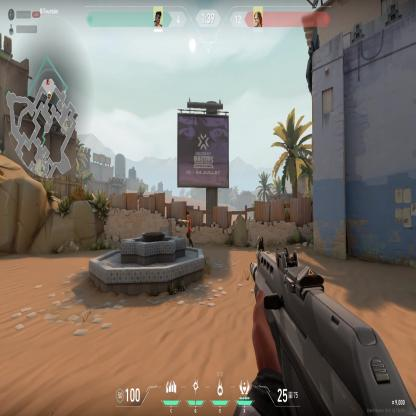enemy: (182, 213, 194, 248)
